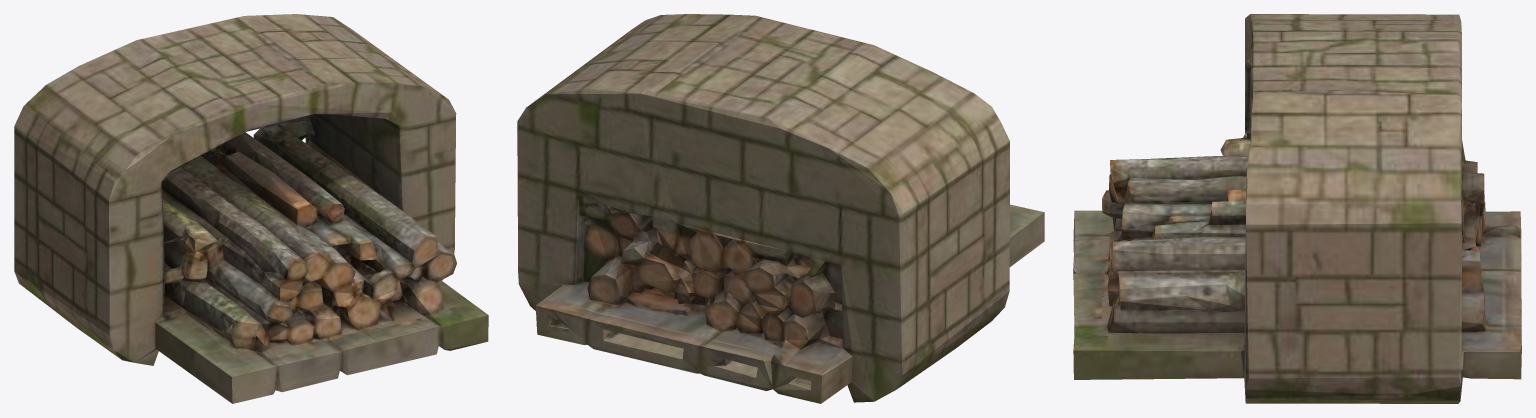
File: firewood_stack_oven_lod0.glb
3 views of the same model, side by side, from view 1: azimuth 30°, elevation 25°; view 2: azimuth 150°, elevation 25°; view 3: azimuth 270°, elevation 25° (orthographic). The views are drawn at different scales.
Parts seen in each view (by area): view 1: firewood_stack_oven_lod0; view 2: firewood_stack_oven_lod0; view 3: firewood_stack_oven_lod0.
Boxes of the visible parts, bbox=[...] form: firewood_stack_oven_lod0: bbox=[14, 14, 488, 403]; firewood_stack_oven_lod0: bbox=[517, 14, 1044, 403]; firewood_stack_oven_lod0: bbox=[1073, 14, 1521, 403].
Bounding box in the file's own units: 1.59 × 1.04 × 1.6.
Materials: 1 (1 with a texture image).
